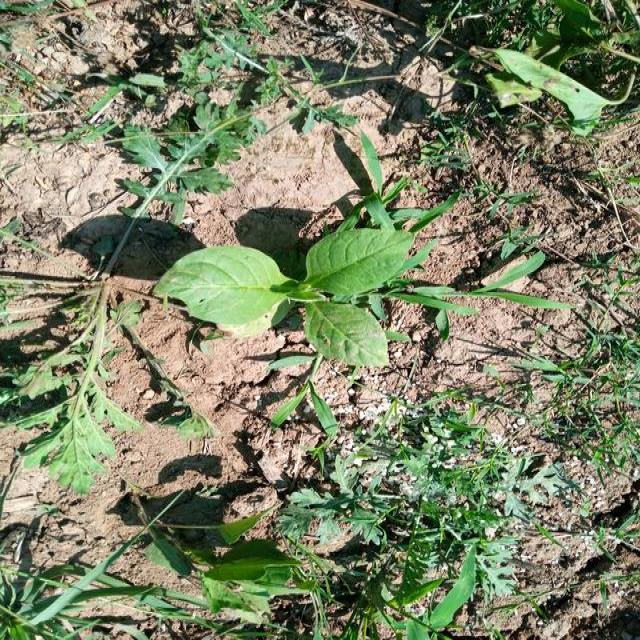crop: (162, 211, 402, 379)
